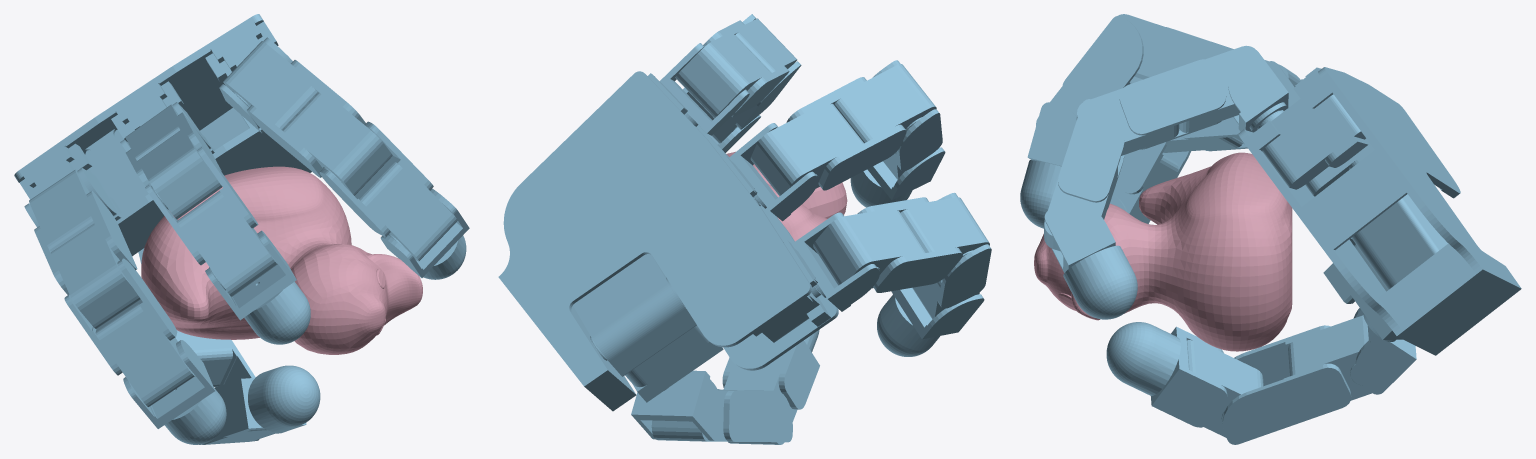
The picture shows the model from 3 angles, left to right: view 1: azimuth 30°, elevation 25°; view 2: azimuth 150°, elevation 25°; view 3: azimuth 270°, elevation 25°; orthographic projection. The views are drawn at different scales.
Parts seen in each view (by area): view 1: world, rubber_duck.stl; view 2: world, rubber_duck.stl; view 3: world, rubber_duck.stl.
Part boxes in pixels (box(x1,y1,x2,y2)): world: box(14, 14, 469, 444); rubber_duck.stl: box(141, 166, 422, 354); world: box(498, 14, 991, 444); rubber_duck.stl: box(726, 151, 847, 241); world: box(1020, 14, 1521, 444); rubber_duck.stl: box(1034, 152, 1292, 351).
Bounding box in the file's own units: 0.1641 × 0.1667 × 0.1862.
